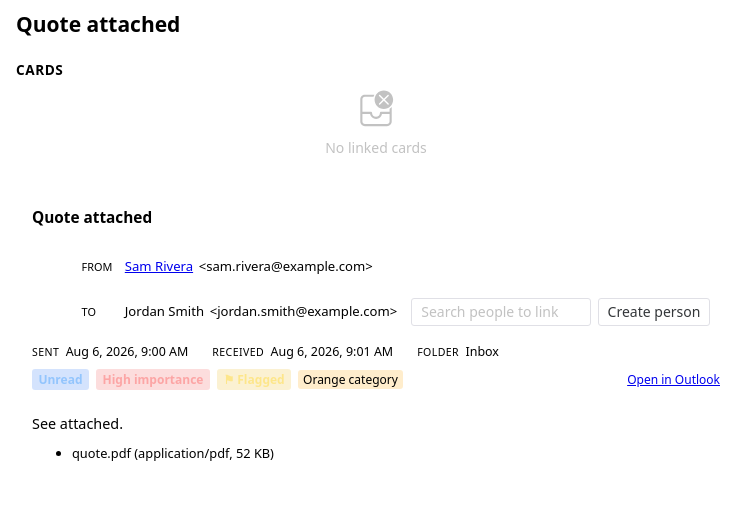
Test: EmailConversationPage — link/create controls (US4) › selecting a search result POSTs to /api/people/:personId/emails and the address then shows as linked
The width and height of the screenshot is (737, 512).
Type "jordan" into the field labelled "Search people to link" at point(501, 312), box x1=421 y1=298 x2=581 y2=326
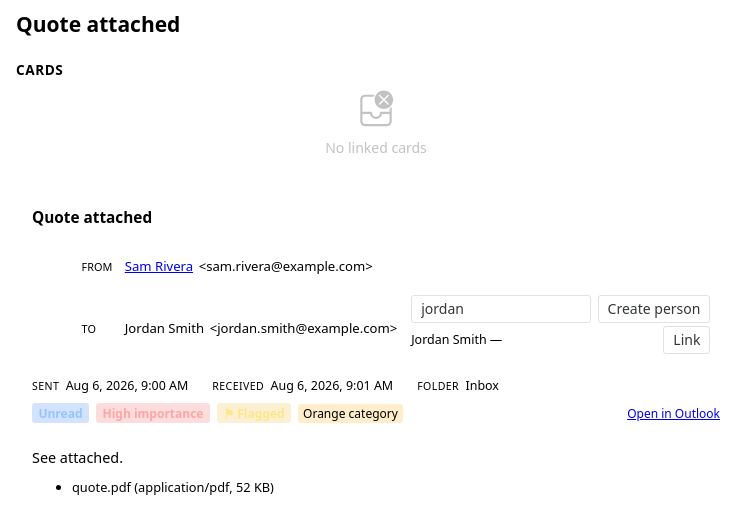
Click the button "Link" at point(687, 340), box x1=663 y1=326 x2=710 y2=354
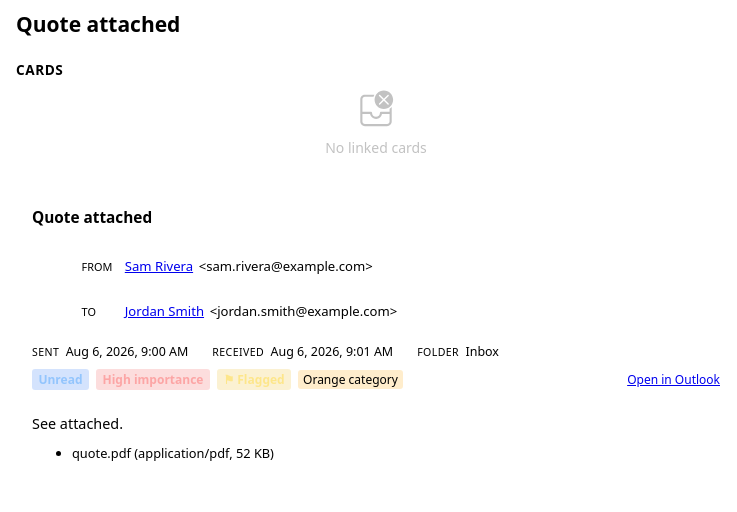
expect the link "Jordan Smith" is shown: met, box x1=125 y1=301 x2=204 y2=322
expect the element with test id "address-link-controls" is gone: met
